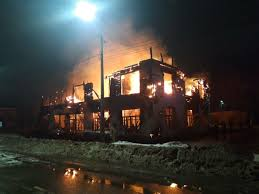fire: (64, 40, 219, 122)
